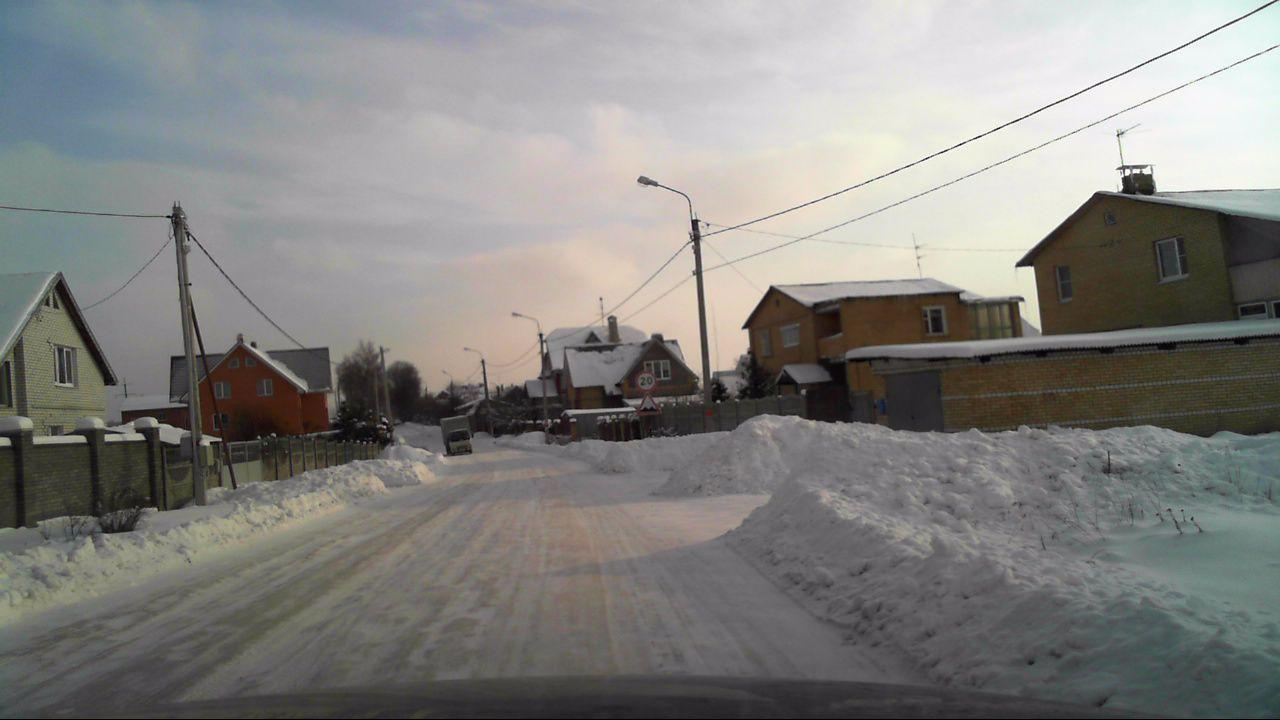1_16: (638, 393, 658, 414)
3_24: (637, 371, 658, 391)
